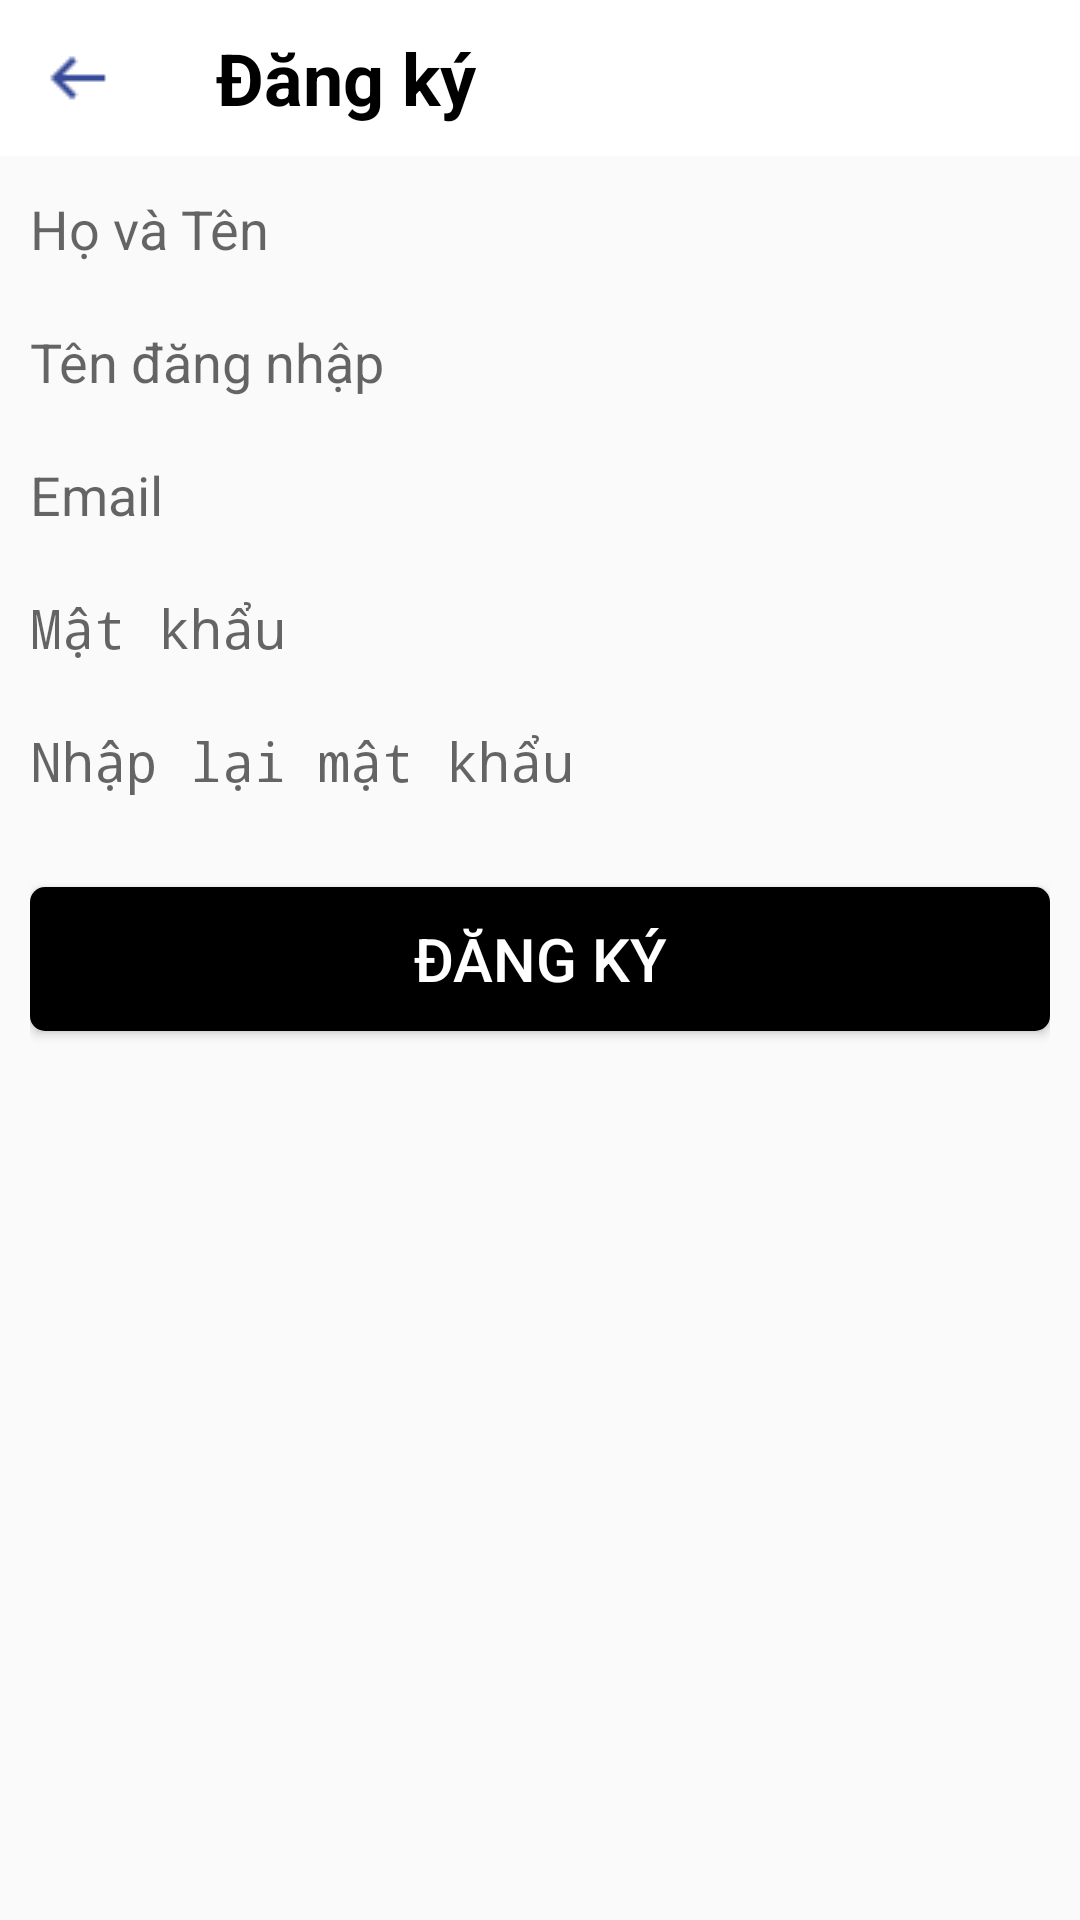

Icon click points for this 1080px x 1920px phone screenshot, format (x=x, y=y):
back: (x=78, y=78)
